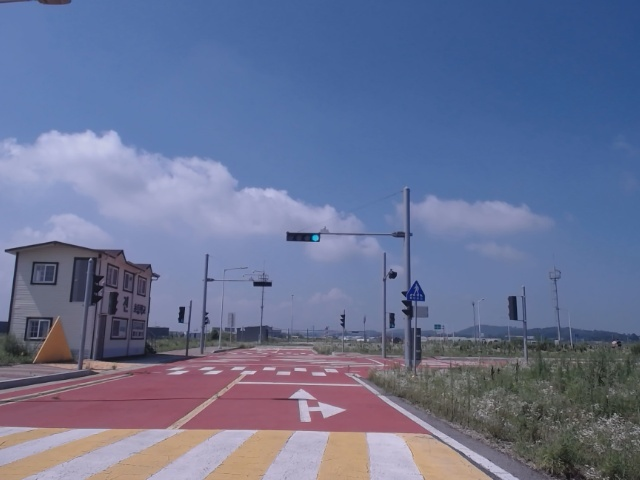straight_green_4: (288, 234, 319, 242)
